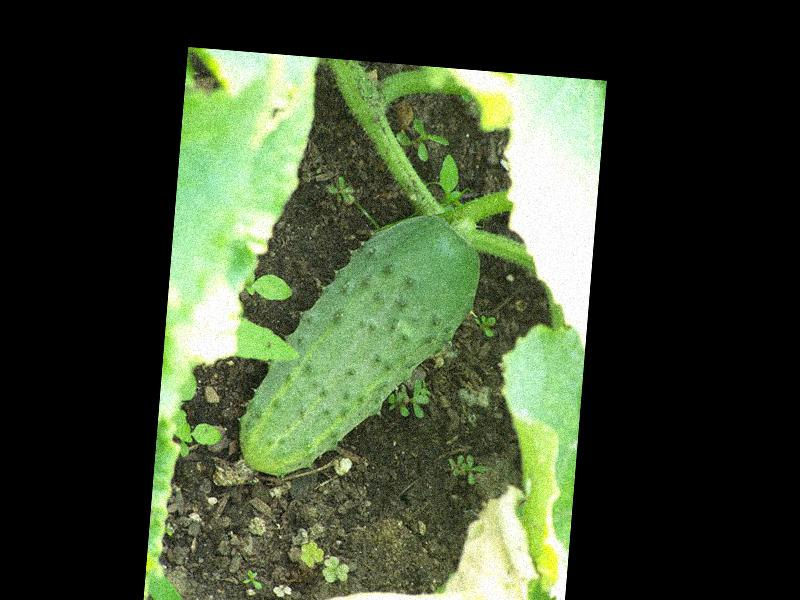Cucumber: (236, 199, 485, 490)
